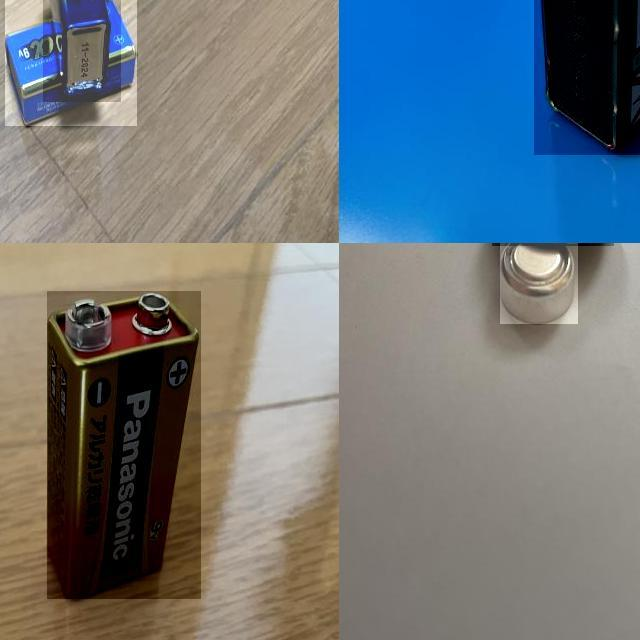9V: (47, 291, 201, 599), (5, 0, 137, 126), (534, 0, 640, 154), (44, 0, 122, 102)
